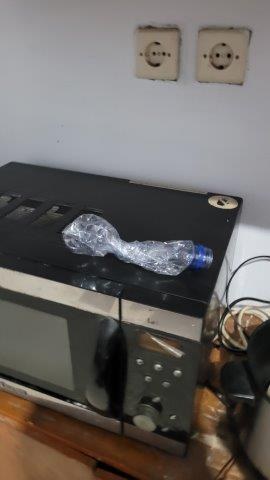botolplastik: (58, 213, 215, 276)
